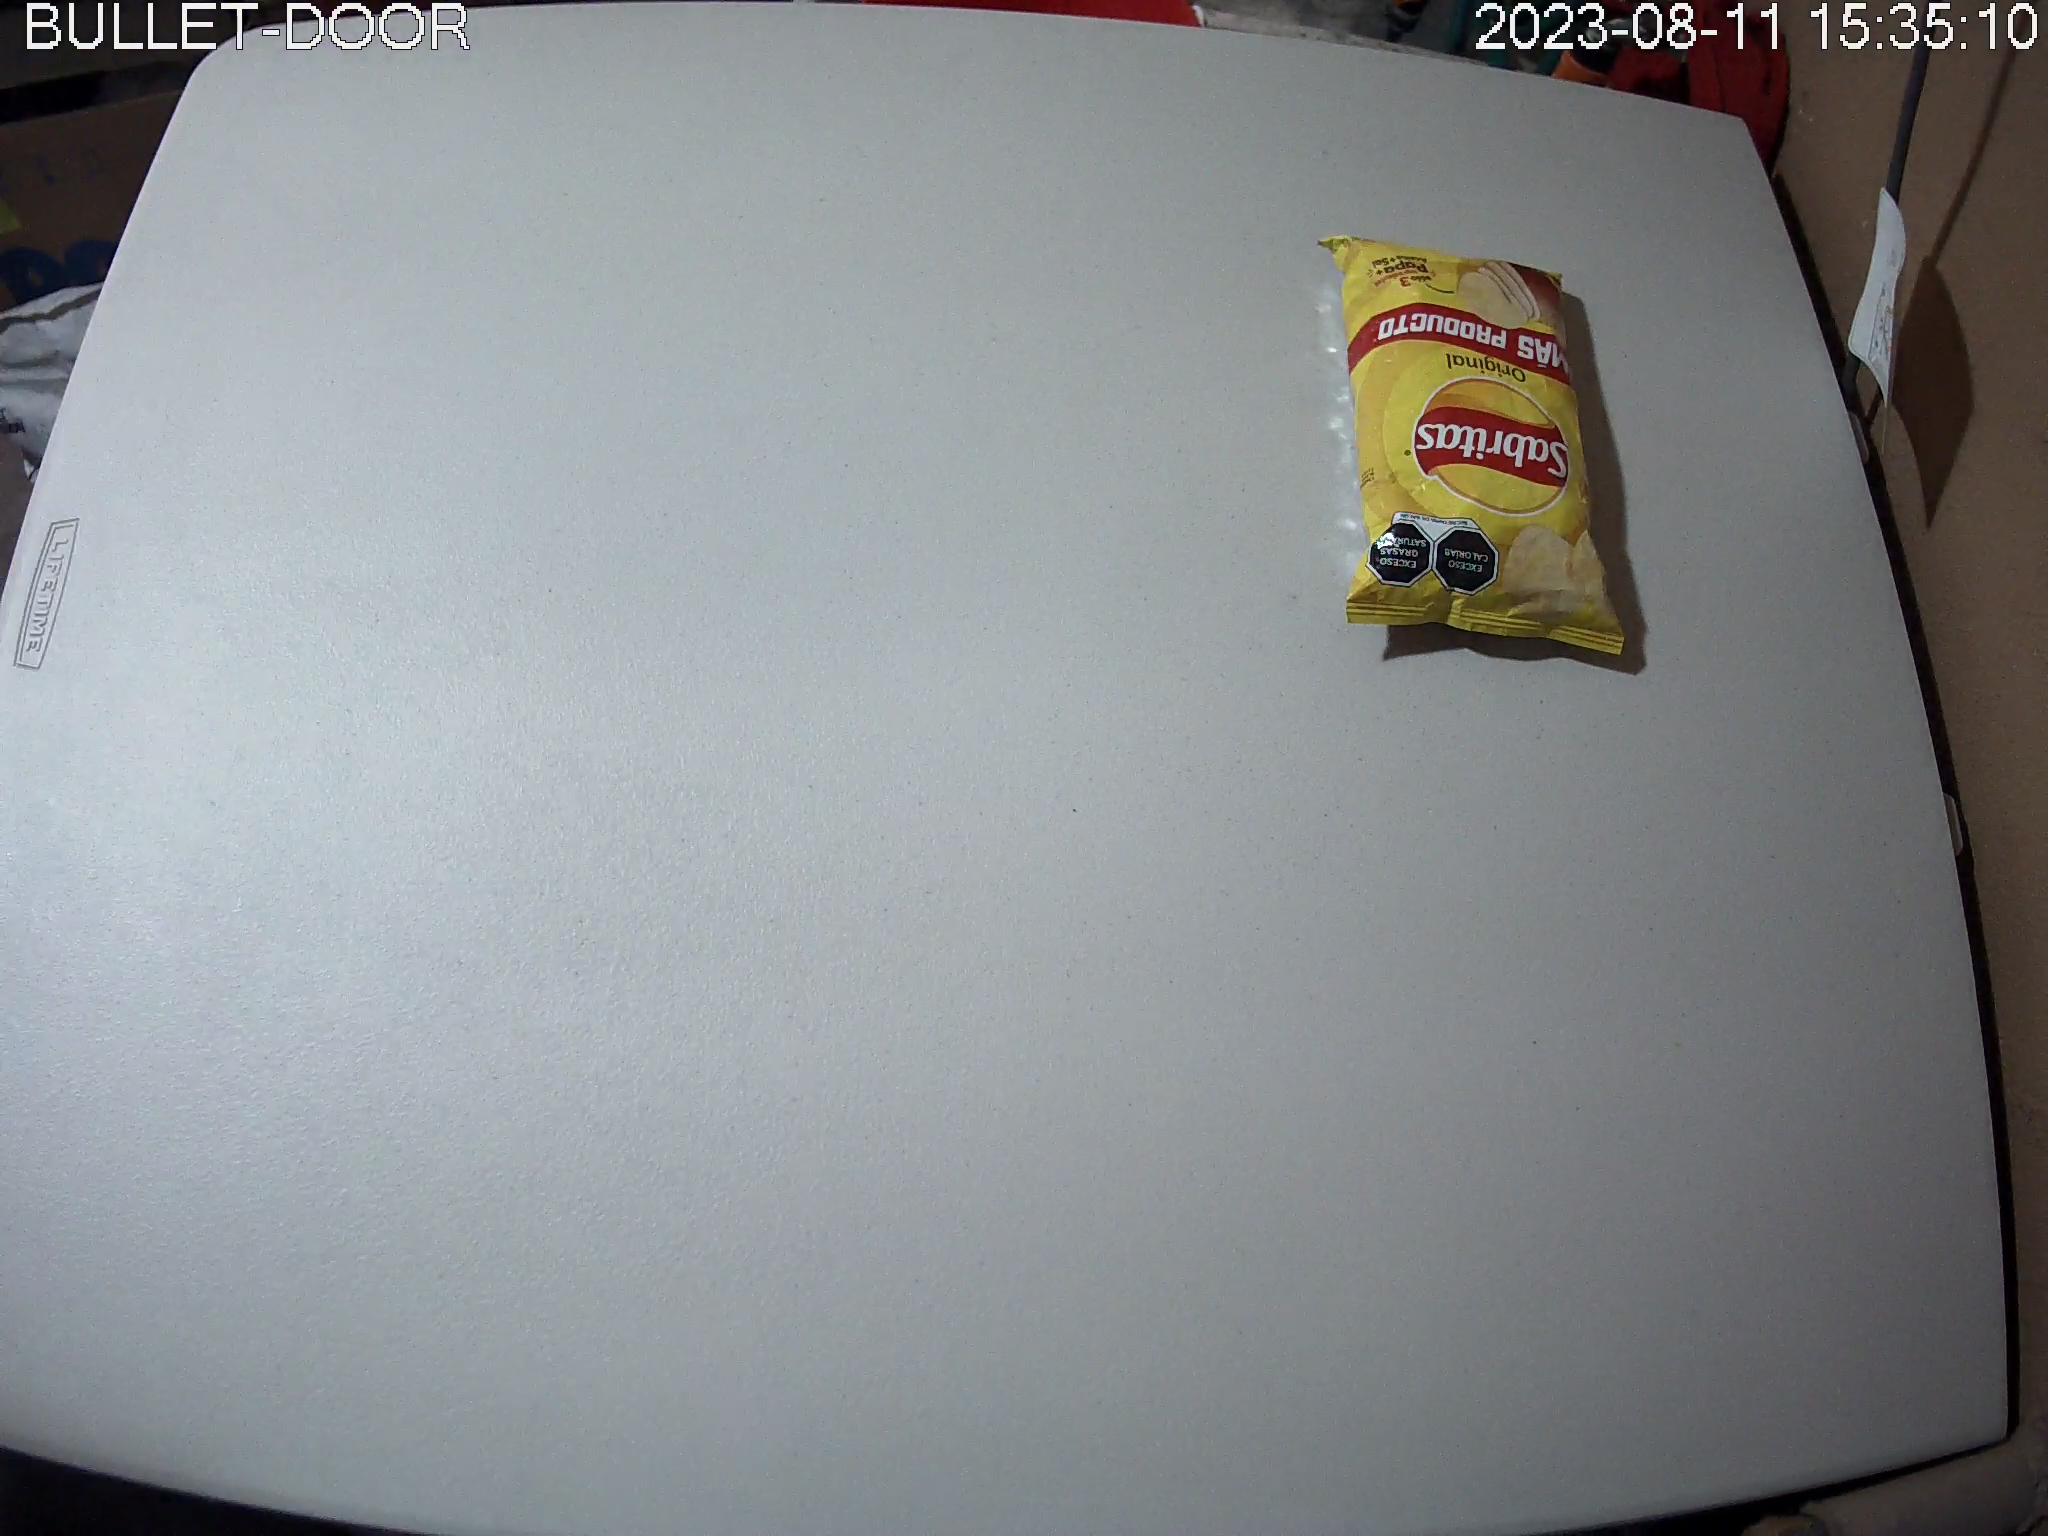Sabritas_45_F: (1317, 234, 1634, 668)
